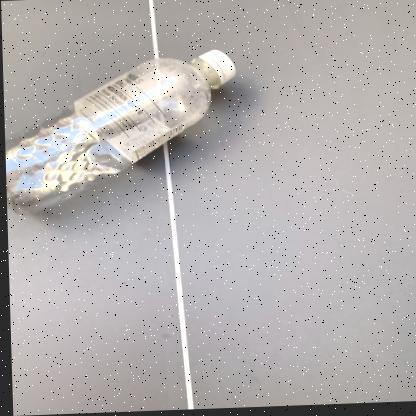Plastic: (3, 51, 235, 213)
